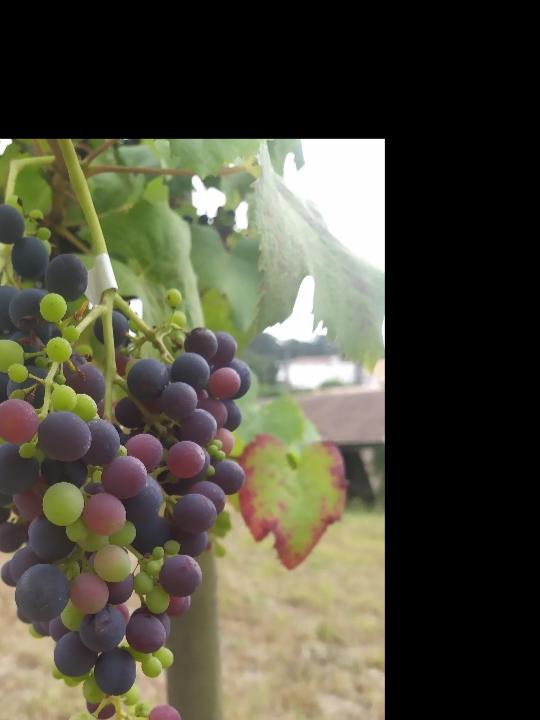grape: (0, 192, 255, 720)
